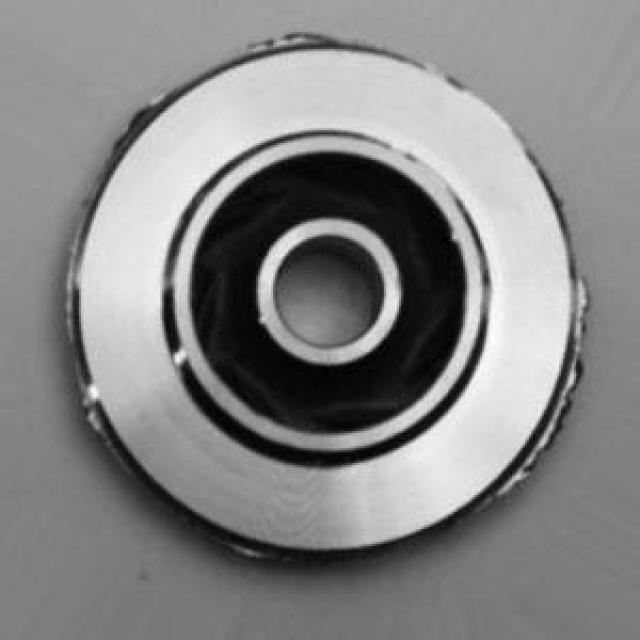Defect: (556, 271, 604, 331)
